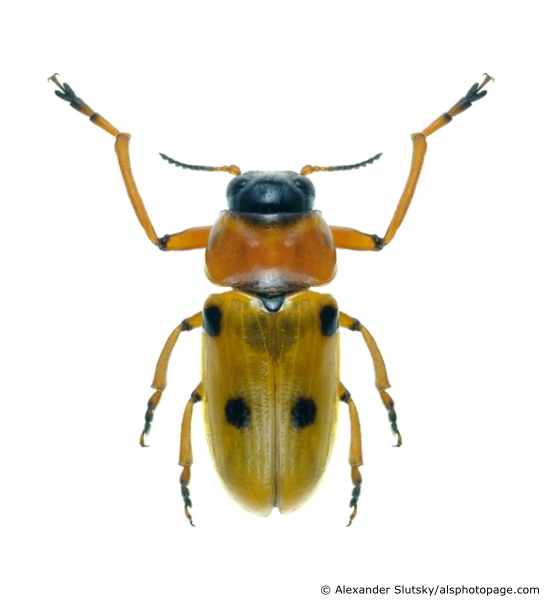Tituboea_macropus: (30, 62, 498, 547)
